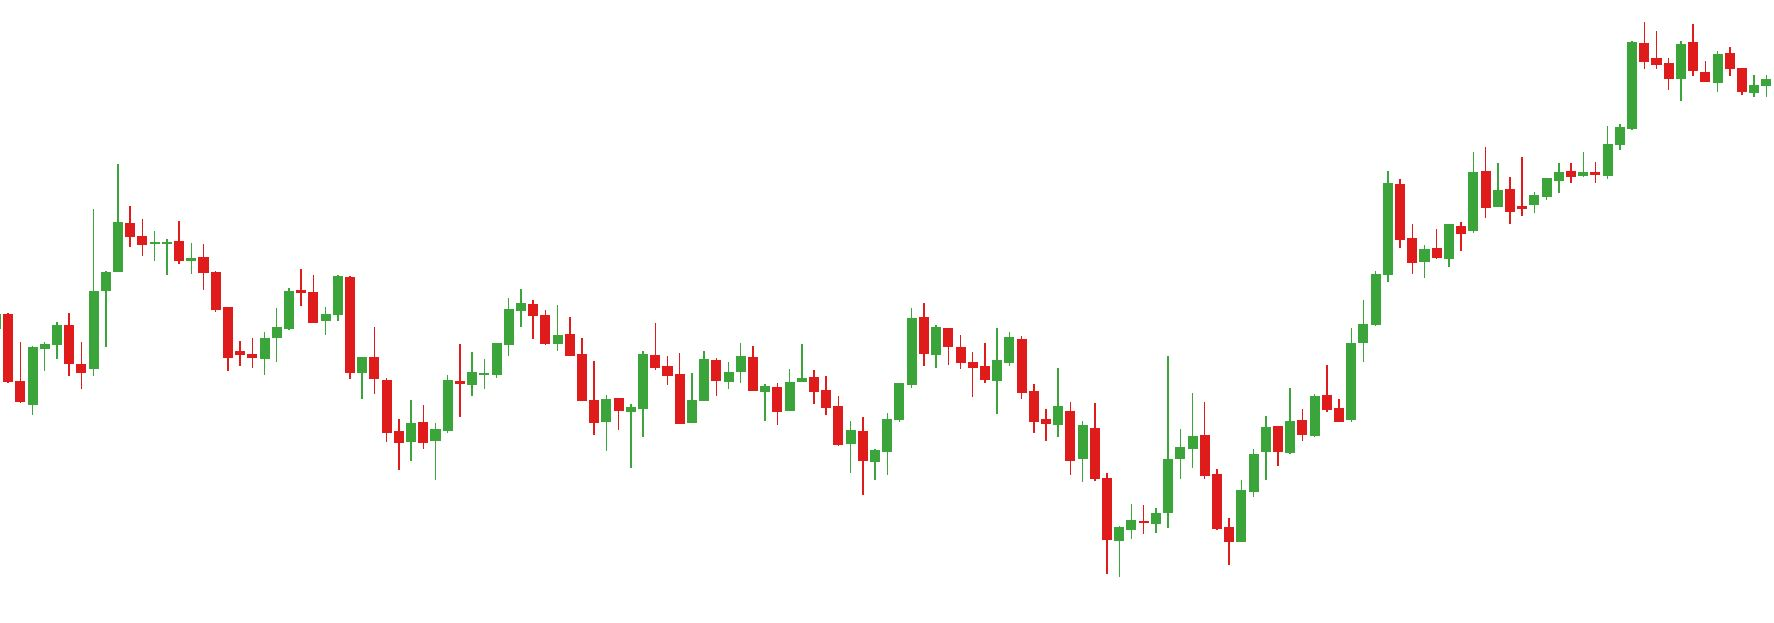buy: (1126, 452, 1249, 571)
sell: (796, 304, 930, 413)
